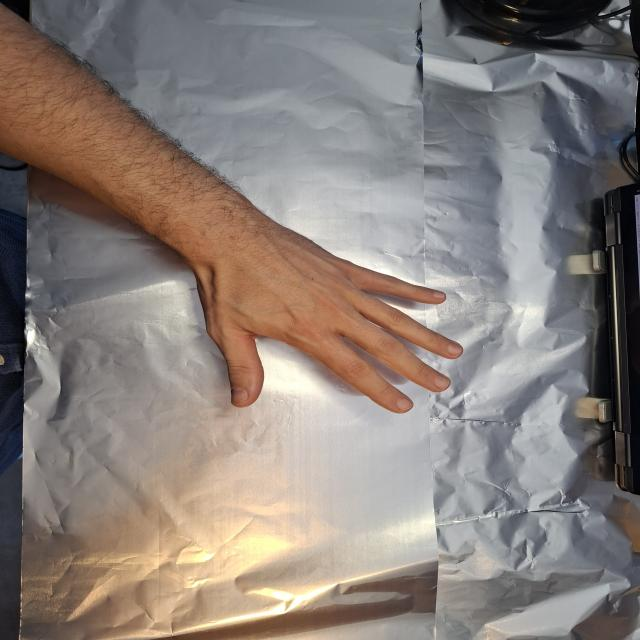glove_off: (192, 227, 466, 416)
